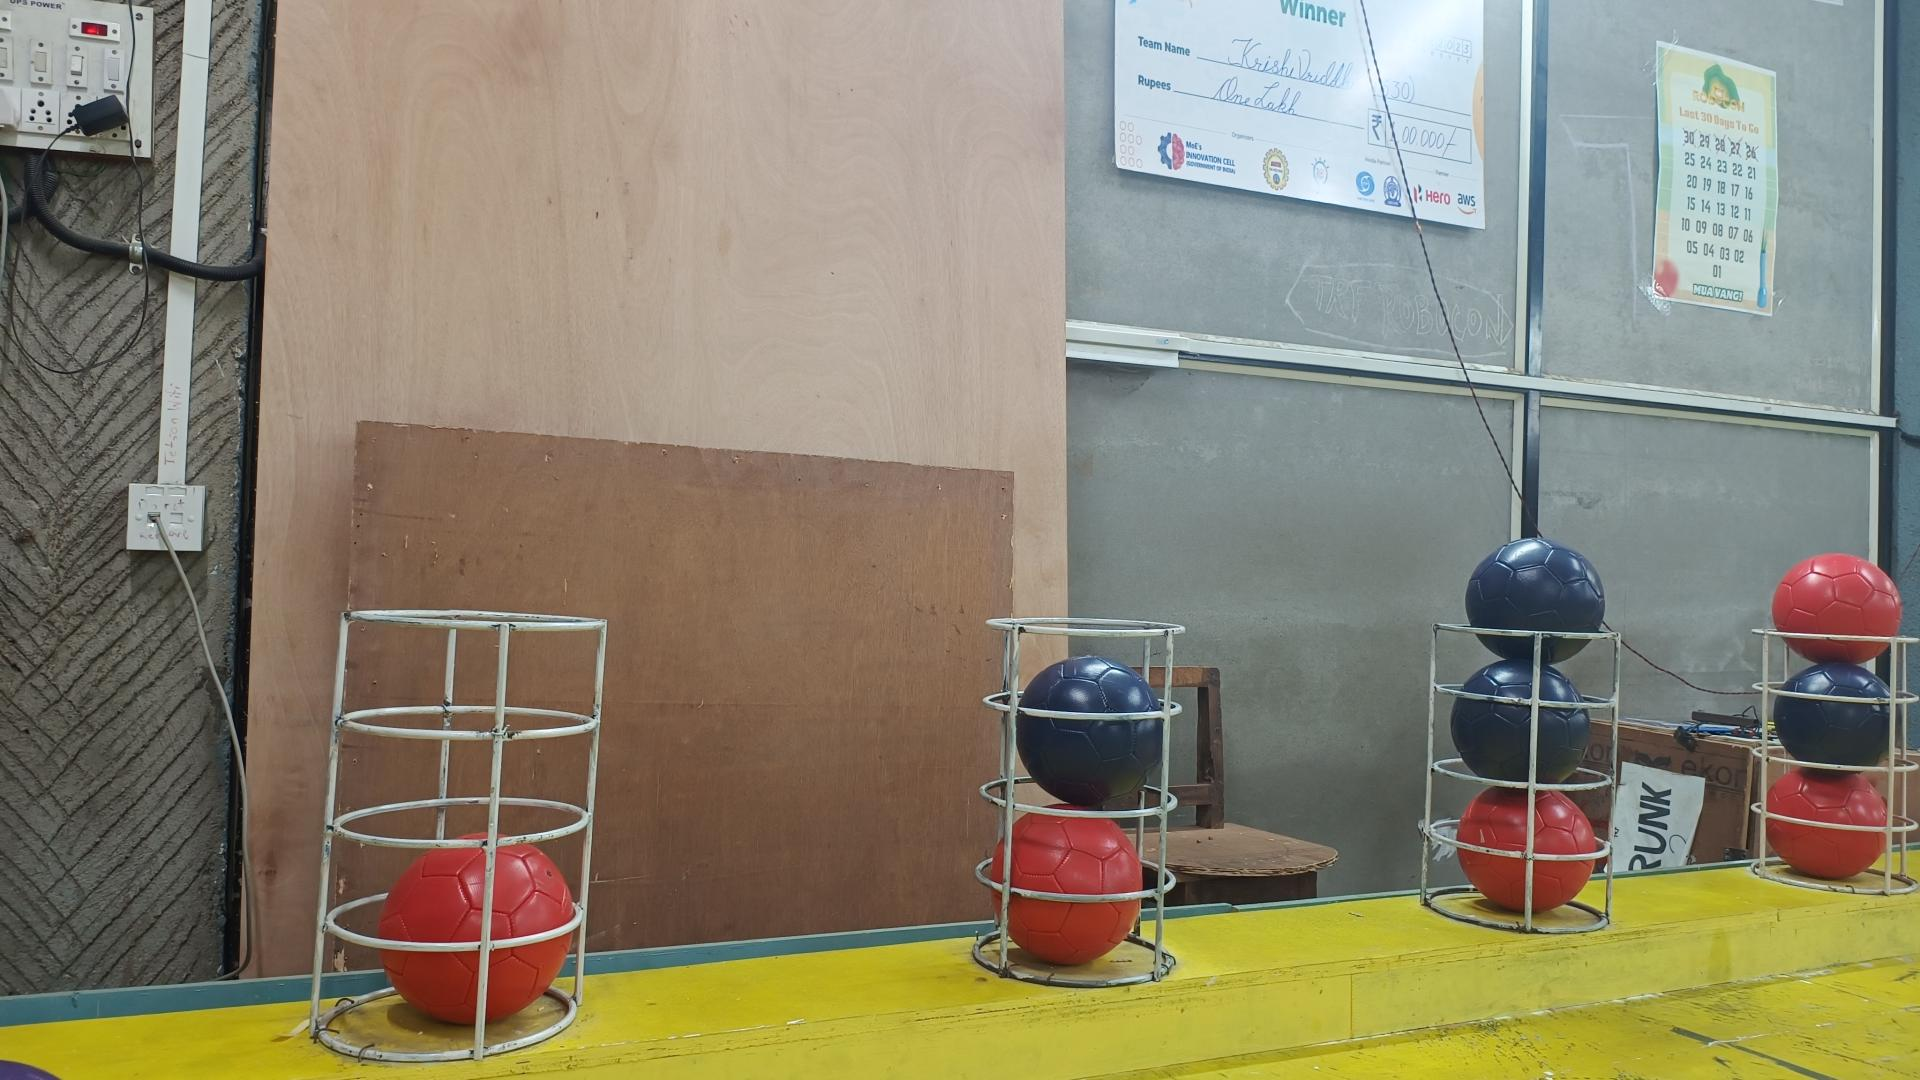dhoka: (1017, 658, 1163, 811), (1448, 658, 1590, 786), (1464, 538, 1606, 666), (1775, 662, 1905, 771)
laale: (382, 855, 582, 1035), (986, 812, 1145, 965), (1456, 786, 1598, 913), (1770, 556, 1902, 665), (1763, 770, 1887, 882)
